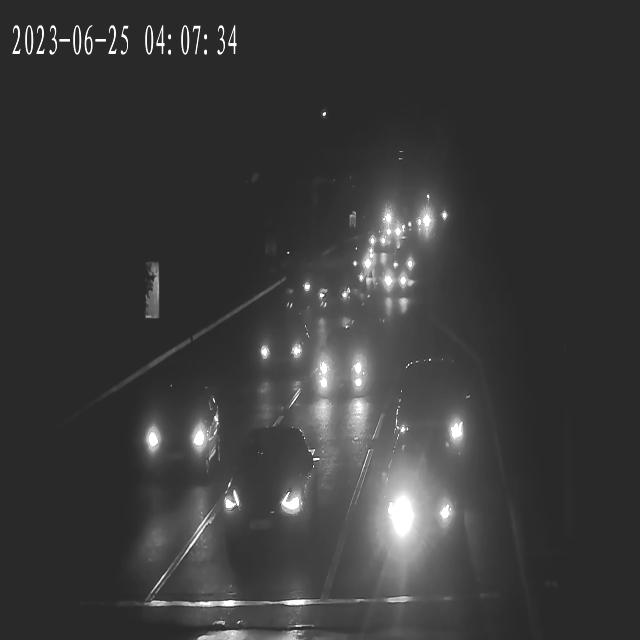Car: (213, 427, 324, 554), (136, 382, 228, 480), (392, 365, 476, 458), (376, 458, 458, 545), (309, 334, 374, 398), (254, 315, 315, 374), (304, 269, 358, 315), (376, 269, 413, 300), (347, 248, 376, 274), (389, 248, 416, 274), (392, 250, 419, 276), (364, 232, 390, 253), (404, 219, 434, 235), (382, 223, 404, 240), (382, 227, 404, 243)
